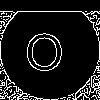O: (25, 25, 64, 71)
